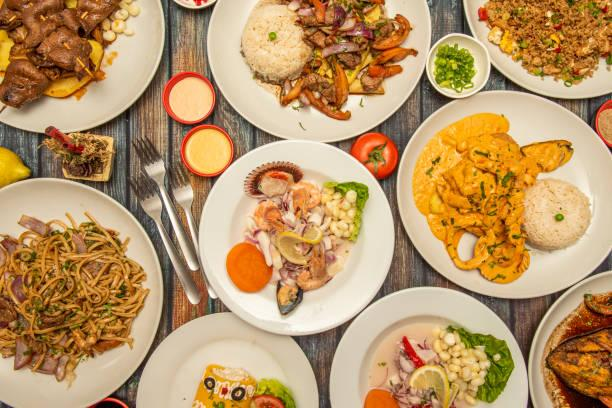Braised Crucian Carp: (396, 91, 608, 296), (0, 178, 163, 406), (197, 139, 388, 333), (208, 0, 427, 143), (331, 286, 529, 406), (3, 0, 165, 136), (461, 0, 608, 99)
